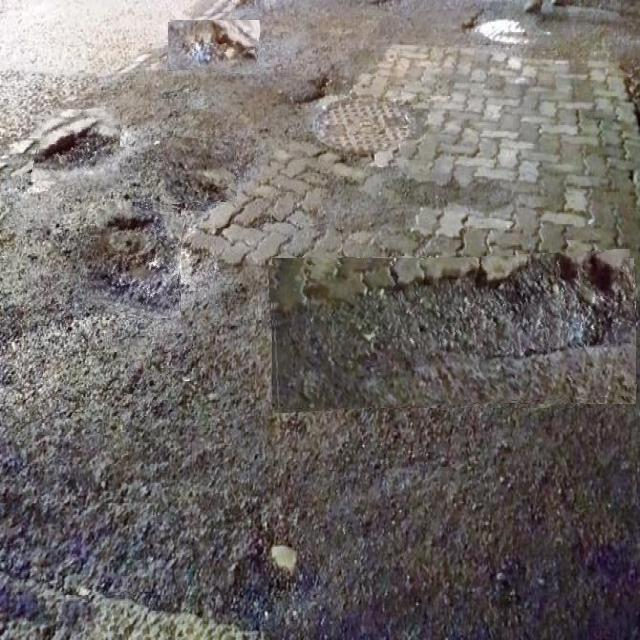Pothole: (270, 254, 636, 408), (90, 202, 181, 318), (34, 109, 120, 191), (167, 20, 260, 73), (164, 137, 236, 203)
